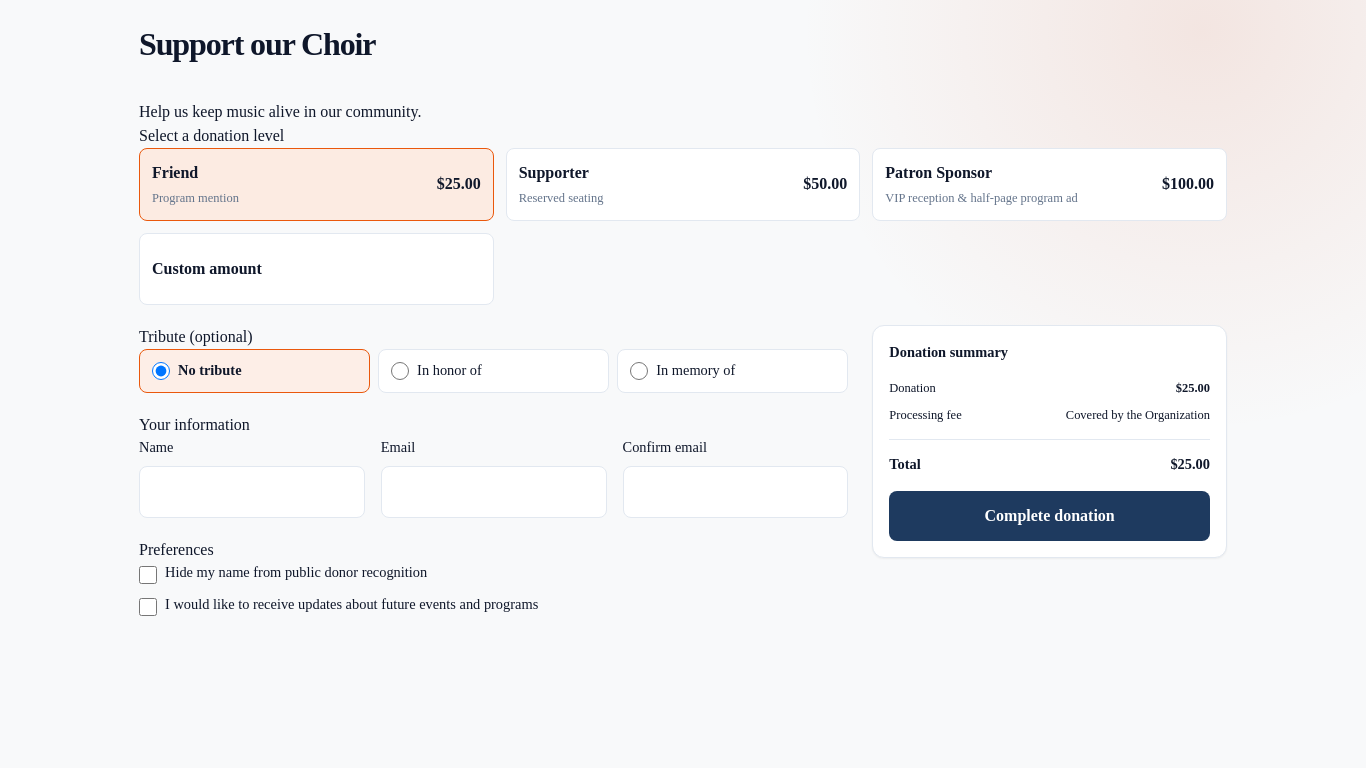
Test: PublicDonationView › reveals conditional fields for honor and memory, and hides them for none
Expected: the text "Tribute (optional)" is shown, [139,325,253,349]
Expected: the field labelled "Honoree name" is not shown
Select In honor of
Step 1. Click the radio button labelled "In honor of" → (400, 371), box [391,362,409,380]
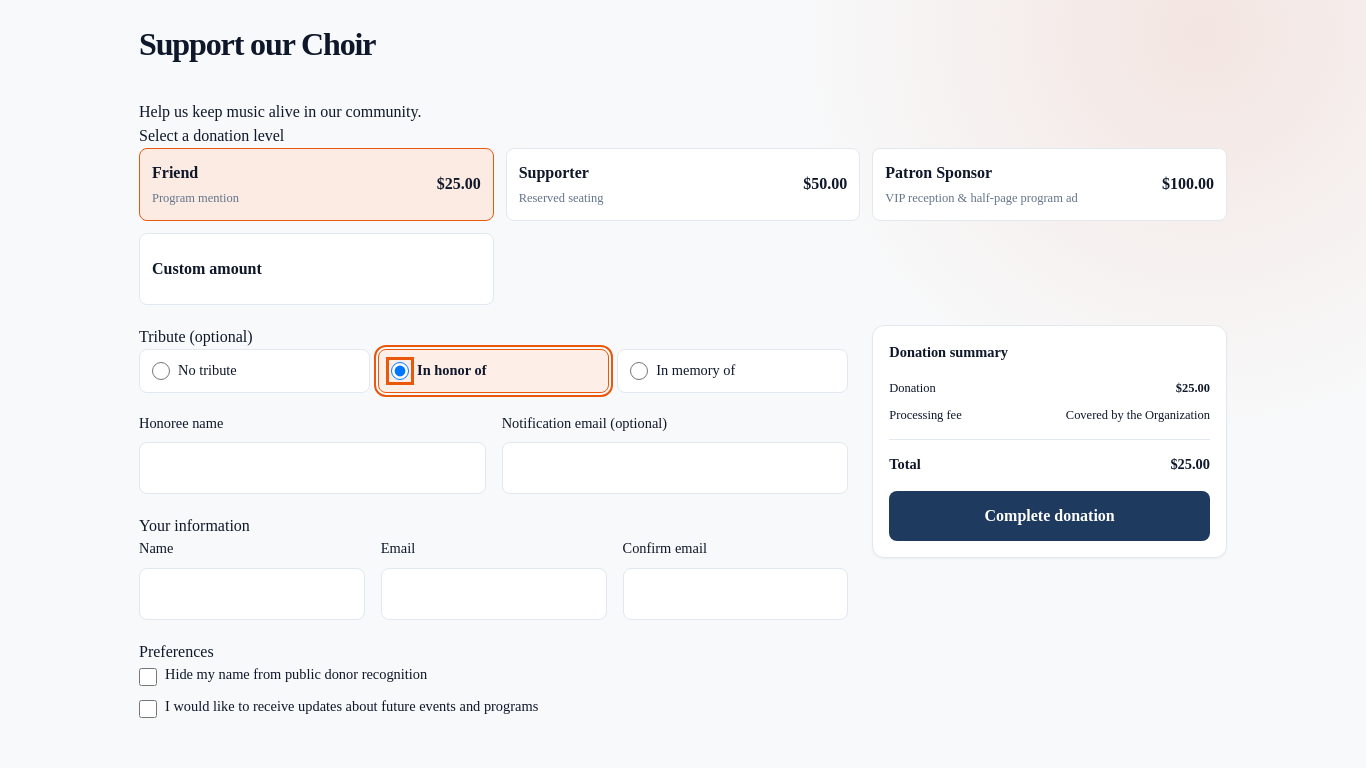
Now the field labelled "Honoree name" is shown, box [139,442,486,494]
Now the field labelled "Notification email (optional)" is shown, box [502,442,848,494]
Select In memory of
Step 2. Click the radio button labelled "In memory of" → (639, 371), box [630,362,648,380]
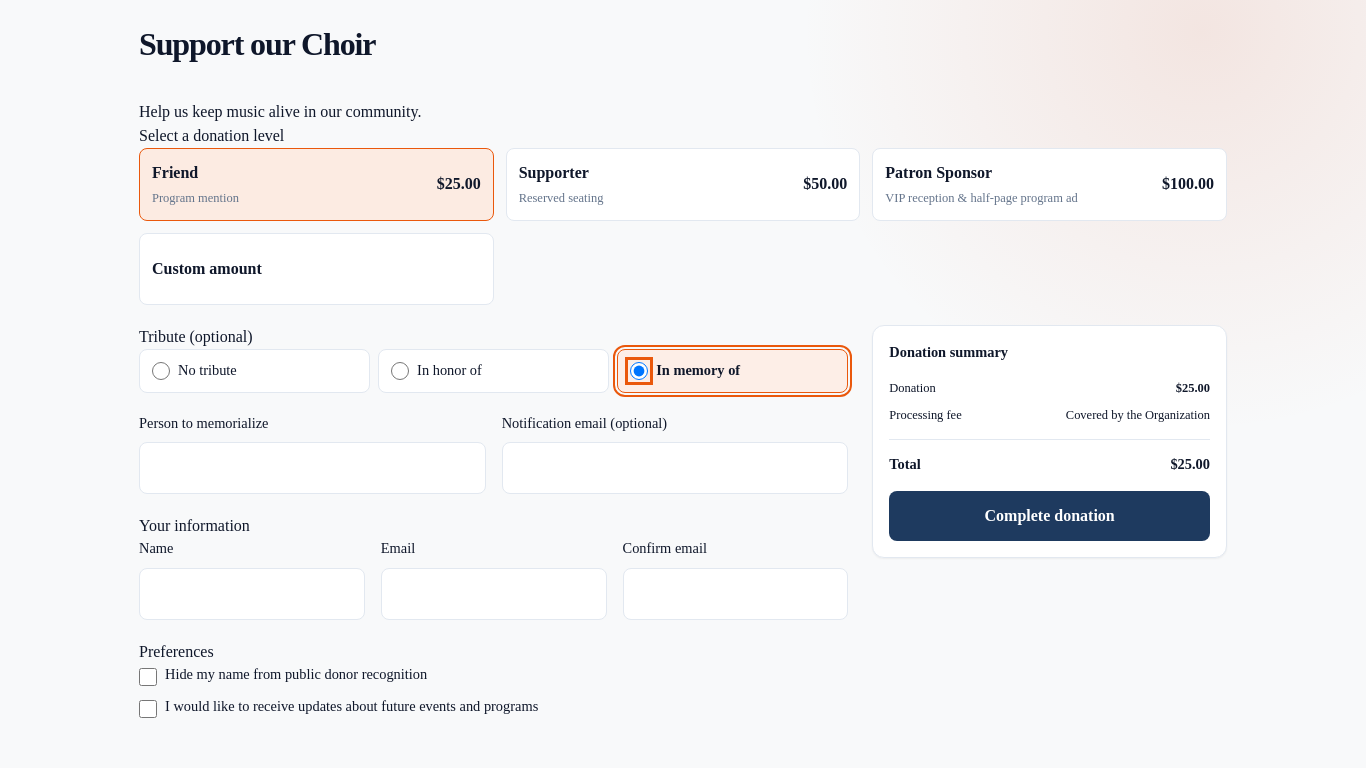
Now the field labelled "Person to memorialize" is shown, box [139,442,486,494]
Now the field labelled "Notification email (optional)" is shown, box [502,442,848,494]
Select No tribute
Step 3. Click the radio button labelled "No tribute" → (161, 371), box [152,362,170,380]
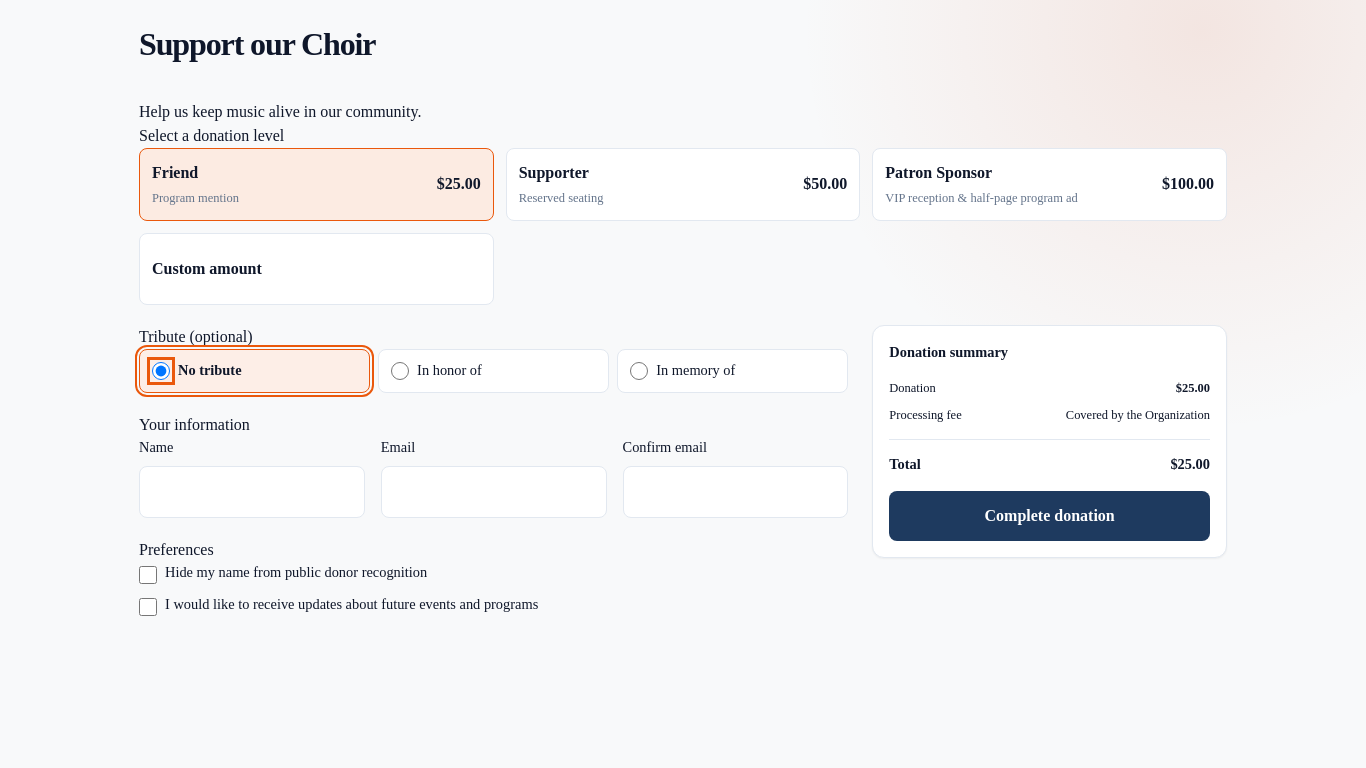
Expected: the label labelled "Honoree name" is not shown
Now the label labelled "Person to memorialize" is gone
